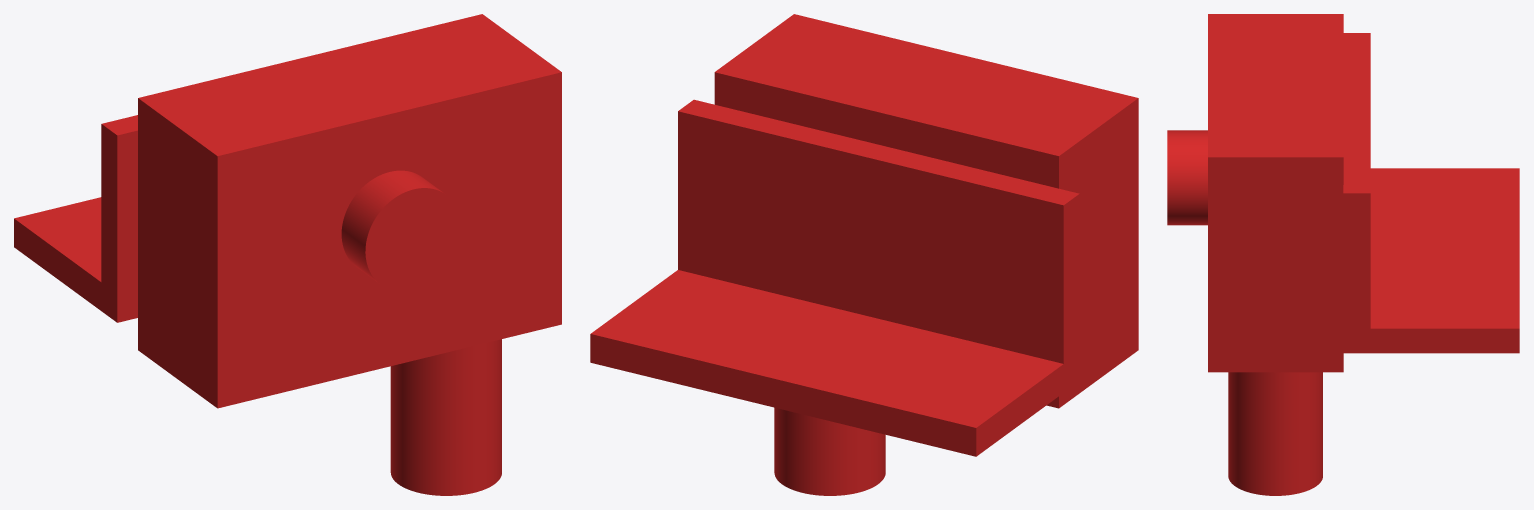
The model's file is SENS-IR-24V.glb.
3 views of the same model, side by side, from view 1: azimuth 30°, elevation 25°; view 2: azimuth 150°, elevation 25°; view 3: azimuth 270°, elevation 25° (orthographic). The views are drawn at different scales.
Parts seen in each view (by area): view 1: SENS-IR-24V; view 2: SENS-IR-24V; view 3: SENS-IR-24V.
Part boxes in pixels (x1,y1,x2,y2): SENS-IR-24V: (14, 14, 561, 495); SENS-IR-24V: (590, 14, 1138, 495); SENS-IR-24V: (1167, 14, 1519, 495).
Bounding box in the file's own units: 0.056 × 0.057 × 0.052.
